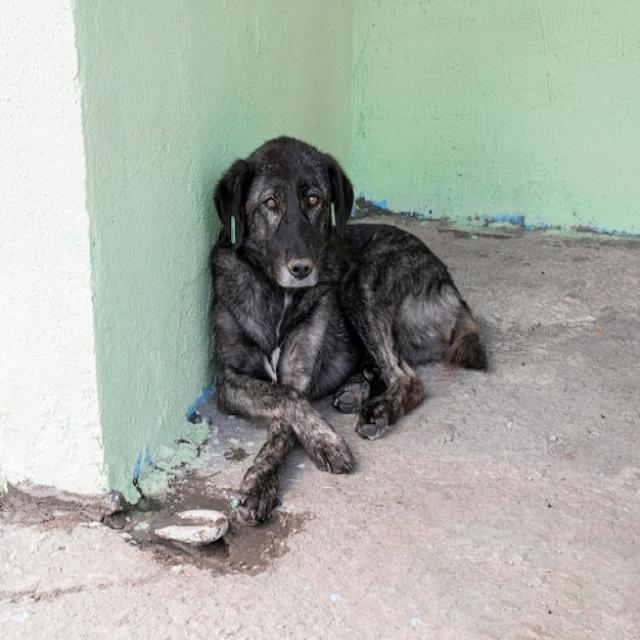Dog: (208, 134, 488, 525)
